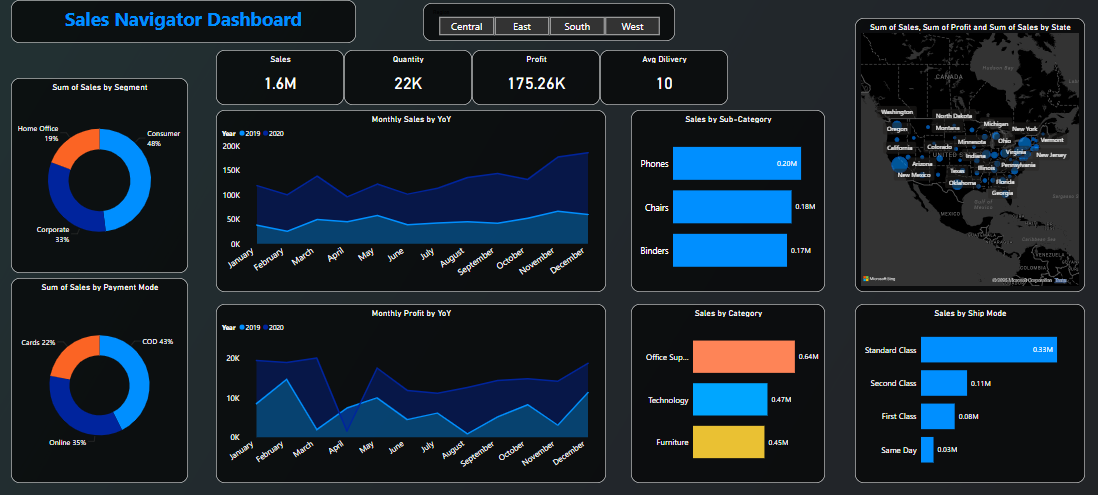

The page's visual inventory and layout, read from the dashboard file:
{"tool":"powerbi","page":{"name":"Page 1","canvas":[2200,1000],"ordinal":0},"visuals":[{"type":"barChart","title":"Sales by Category","fields":{"Category":["SuperStore_Sales_Dataset.Category"],"Y":["Sum(SuperStore_Sales_Dataset.Sales)"]},"box":[1264,612,388,358],"z":0},{"type":"barChart","title":"Sales by Sub-Category","fields":{"Category":["SuperStore_Sales_Dataset.Sub-Category"],"Y":["Sum(SuperStore_Sales_Dataset.Sales)"]},"box":[1264,224,388,364],"z":1000},{"type":"barChart","title":"Sales by Ship Mode","fields":{"Category":["SuperStore_Sales_Dataset.Ship Mode"],"Y":["Sum(SuperStore_Sales_Dataset.Sales)"]},"box":[1712,612,460,358],"z":2000},{"type":"stackedAreaChart","title":"Monthly Sales by YoY","fields":{"Y":["Sum(SuperStore_Sales_Dataset.Sales)"],"Series":["SuperStore_Sales_Dataset.Order Date.Variation.Date Hierarchy.Year"],"Category":["SuperStore_Sales_Dataset.Order Date.Variation.Date Hierarchy.Month"]},"box":[434,224,780,364],"z":3000},{"type":"stackedAreaChart","title":"Monthly Profit by YoY","fields":{"Series":["SuperStore_Sales_Dataset.Order Date.Variation.Date Hierarchy.Year"],"Category":["SuperStore_Sales_Dataset.Order Date.Variation.Date Hierarchy.Month"],"Y":["Sum(SuperStore_Sales_Dataset.Profit)"]},"box":[434,612,780,358],"z":4000},{"type":"donutChart","fields":{"Category":["SuperStore_Sales_Dataset.Segment"],"Y":["Sum(SuperStore_Sales_Dataset.Sales)"]},"box":[24,160,354,390],"z":5000},{"type":"donutChart","fields":{"Category":["SuperStore_Sales_Dataset.Payment Mode"],"Y":["Sum(SuperStore_Sales_Dataset.Sales)"]},"box":[24,560,354,410],"z":6000},{"type":"slicer","fields":{"Values":["SuperStore_Sales_Dataset.Region"]},"box":[823.2,14.2,501.5,75.7],"z":7000},{"type":"textbox","box":[24,4,690,86],"z":8000},{"type":"card","title":"Sales","fields":{"Values":["Sum(SuperStore_Sales_Dataset.Sales)"]},"box":[434,104,256,110],"z":9000},{"type":"card","title":"Quantity","fields":{"Values":["Sum(SuperStore_Sales_Dataset.Quantity)"]},"box":[690,104,256,110],"z":10000},{"type":"card","title":"Profit","fields":{"Values":["Sum(SuperStore_Sales_Dataset.Profit)"]},"box":[946,104,256,110],"z":11000},{"type":"card","title":"Avg Dilivery","fields":{"Values":["Avg(SuperStore_Sales_Dataset.AvgDilivery)"]},"box":[1202,104,256,110],"z":12000},{"type":"map","fields":{"Category":["SuperStore_Sales_Dataset.State"],"Size":["Sum(SuperStore_Sales_Dataset.Sales)"]},"box":[1712,40,460,548],"z":13000}]}

Visuals, with their boxes in screenshot pixels (x1, y1, x2, y2), scaled from the page's 2200x1000 canvas onto the 1098x495 screenshot:
"Sales by Category" barChart: 631,303,824,480
"Sales by Sub-Category" barChart: 631,111,824,291
"Sales by Ship Mode" barChart: 854,303,1084,480
"Monthly Sales by YoY" stackedAreaChart: 217,111,606,291
"Monthly Profit by YoY" stackedAreaChart: 217,303,606,480
donutChart - SuperStore_Sales_Dataset.Segment x Sum(SuperStore_Sales_Dataset.Sales): 12,79,189,272
donutChart - SuperStore_Sales_Dataset.Payment Mode x Sum(SuperStore_Sales_Dataset.Sales): 12,277,189,480
slicer - SuperStore_Sales_Dataset.Region: 411,7,661,45
textbox: 12,2,356,45
"Sales" card: 217,51,344,106
"Quantity" card: 344,51,472,106
"Profit" card: 472,51,600,106
"Avg Dilivery" card: 600,51,728,106
map - SuperStore_Sales_Dataset.State x Sum(SuperStore_Sales_Dataset.Sales): 854,20,1084,291
